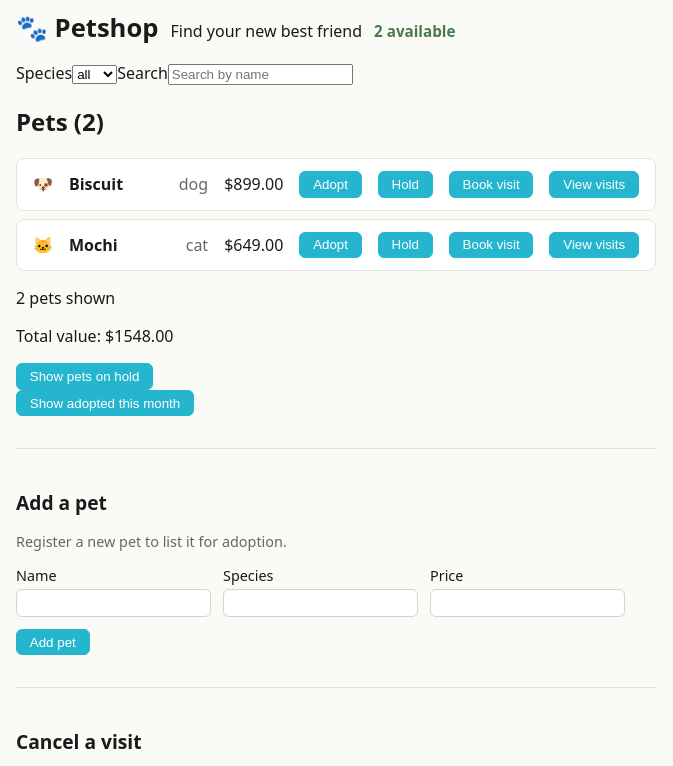
Test case: App › moves a pet below the remaining available pets when adopted without a reload
Expected: the text "Biscuit" is shown, x1=69 y1=173 x2=123 y2=195
Click the button "Adopt" in the row of "Biscuit": (330, 184) x1=299 y1=171 x2=362 y2=198
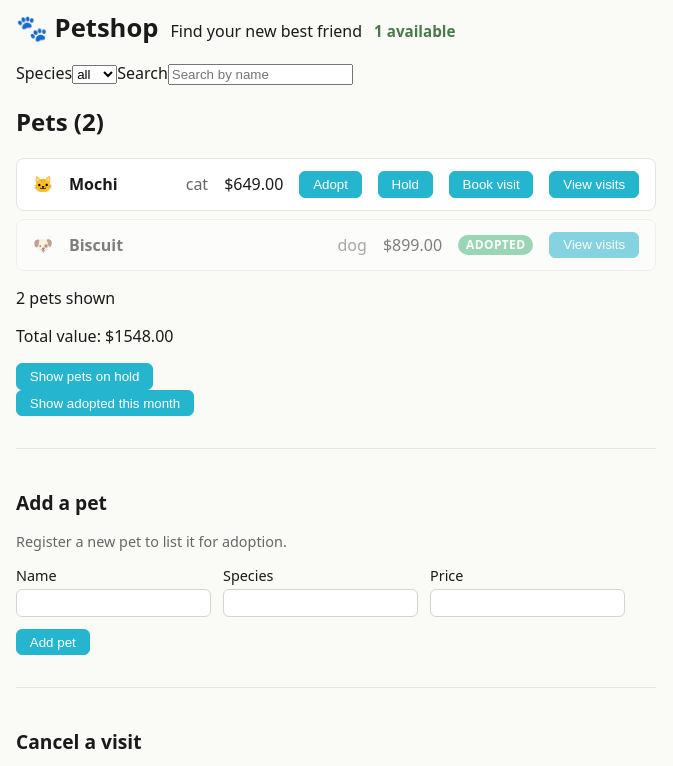
Expected: the text "Adopted" is shown, x1=458 y1=235 x2=533 y2=255
